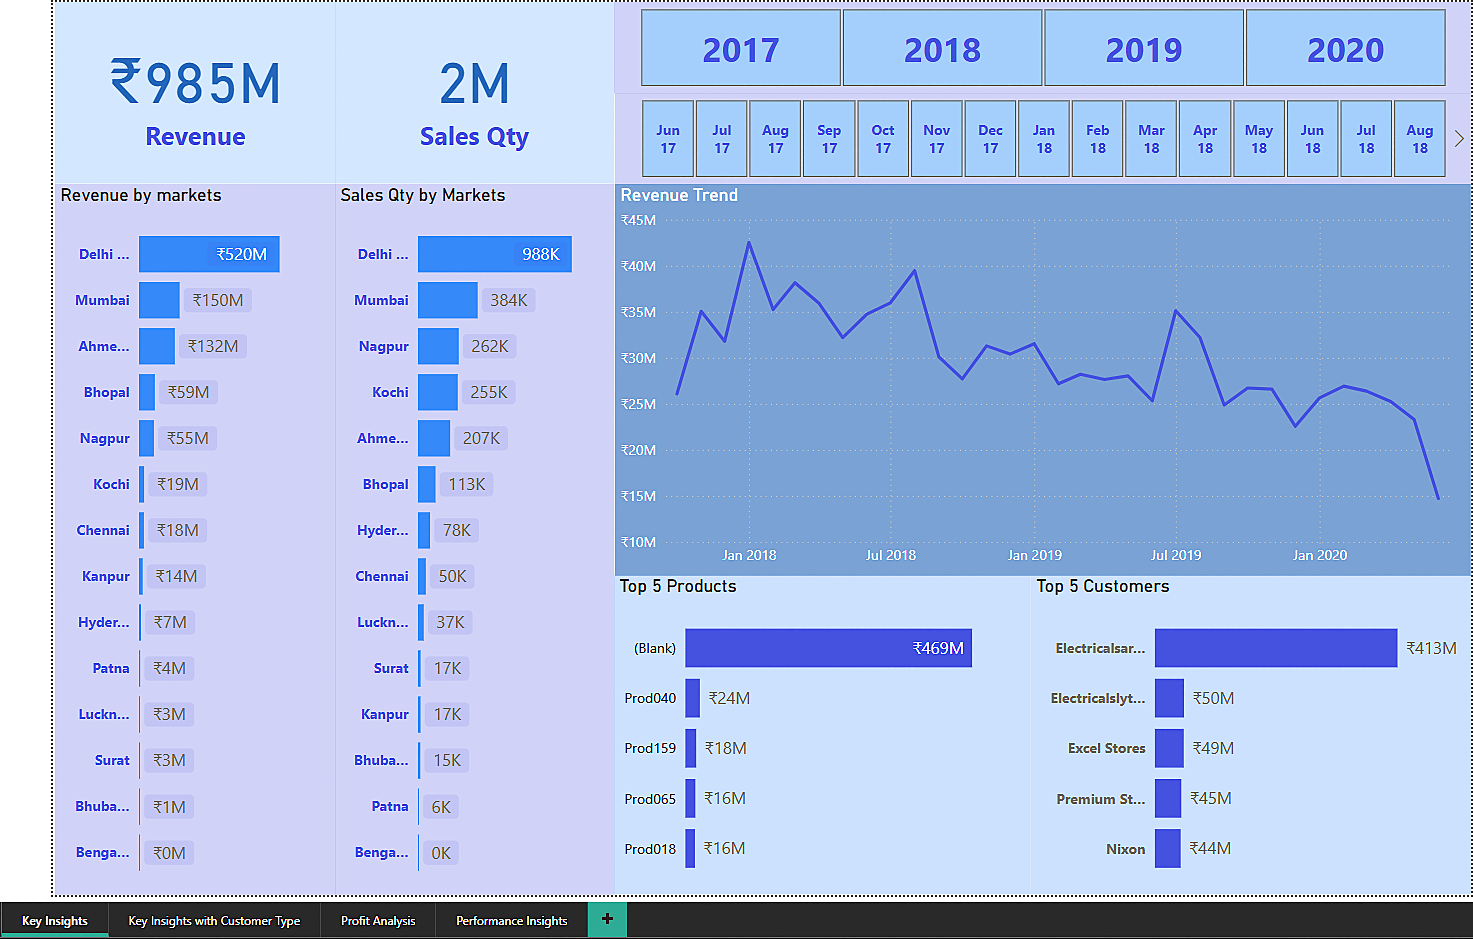

The page's visual inventory and layout, read from the dashboard file:
{"tool":"powerbi","page":{"name":"Key Insights","canvas":[1350,850],"ordinal":0},"visuals":[{"type":"card","fields":{"Values":["BaseMeasures.Revenue"]},"box":[1.4,0,267.1,172.9],"z":0},{"type":"card","fields":{"Values":["BaseMeasures.Sales Qty"]},"box":[268.6,0,265.7,172.9],"z":1000},{"type":"barChart","title":"Revenue by markets","fields":{"Y":["BaseMeasures.Revenue"],"Category":["sales markets.markets_name"]},"box":[1.4,172.9,267.1,677.1],"z":2000},{"type":"barChart","title":"Sales Qty by Markets","fields":{"Y":["BaseMeasures.Sales Qty"],"Category":["sales markets.markets_name"]},"box":[268.6,172.9,265.7,677.1],"z":3000},{"type":"slicer","fields":{"Values":["sales date.year"]},"box":[534.3,0,815.7,87.1],"z":4000},{"type":"slicer","fields":{"Values":["sales date.cy_date"]},"box":[534.8,86.7,815.2,86.7],"z":5000},{"type":"barChart","title":"Top 5 Customers","fields":{"Y":["BaseMeasures.Revenue"],"Category":["sales customers.custmer_name"]},"box":[931.4,545.7,418.6,304.3],"z":6000},{"type":"barChart","title":"Top 5 Products","fields":{"Y":["BaseMeasures.Revenue"],"Category":["sales products.product_code"]},"box":[534.3,545.7,397.1,304.3],"z":7000},{"type":"lineChart","title":"Revenue Trend","fields":{"Category":["sales date.cy_date"],"Y":["BaseMeasures.Revenue"]},"box":[534.8,173.4,815.2,372.9],"z":8000}]}

Visuals, with their boxes on the page's 1350x850 design canvas (x1, y1, x2, y2). These are canvas units, not pixel positions in the 1473x939 screenshot, which may show the page scaled, cropped or inside an application window:
card - BaseMeasures.Revenue: 1,0,268,173
card - BaseMeasures.Sales Qty: 269,0,534,173
"Revenue by markets" barChart: 1,173,268,850
"Sales Qty by Markets" barChart: 269,173,534,850
slicer - sales date.year: 534,0,1350,87
slicer - sales date.cy_date: 535,87,1350,173
"Top 5 Customers" barChart: 931,546,1350,850
"Top 5 Products" barChart: 534,546,931,850
"Revenue Trend" lineChart: 535,173,1350,546
